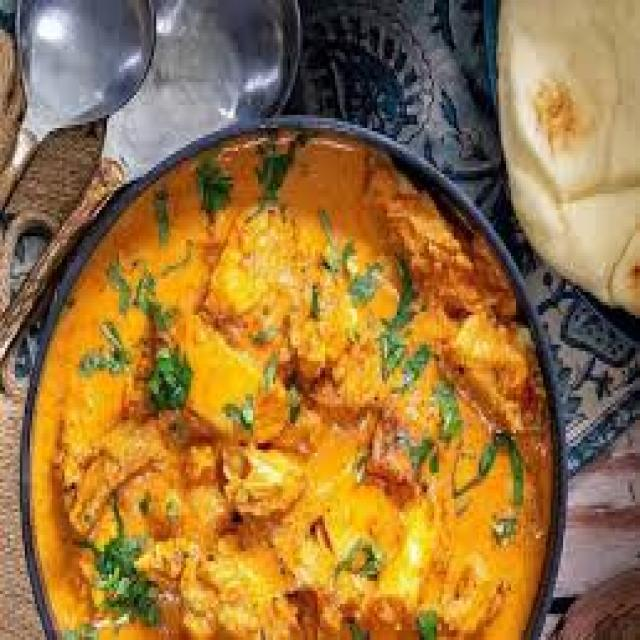Butter Chicken: (37, 134, 551, 636)
